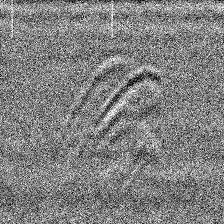Utility: (67, 53, 162, 147)
